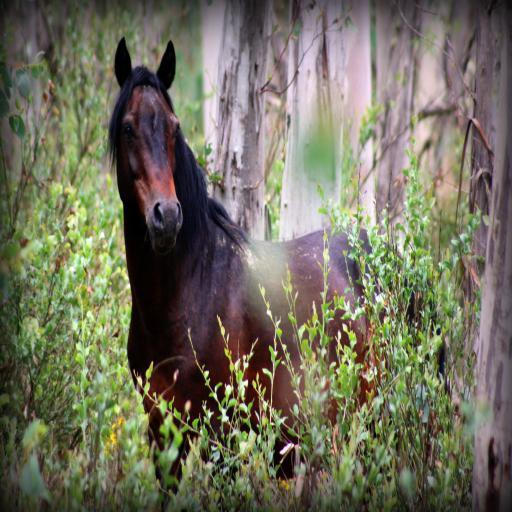horse: (104, 38, 450, 508)
